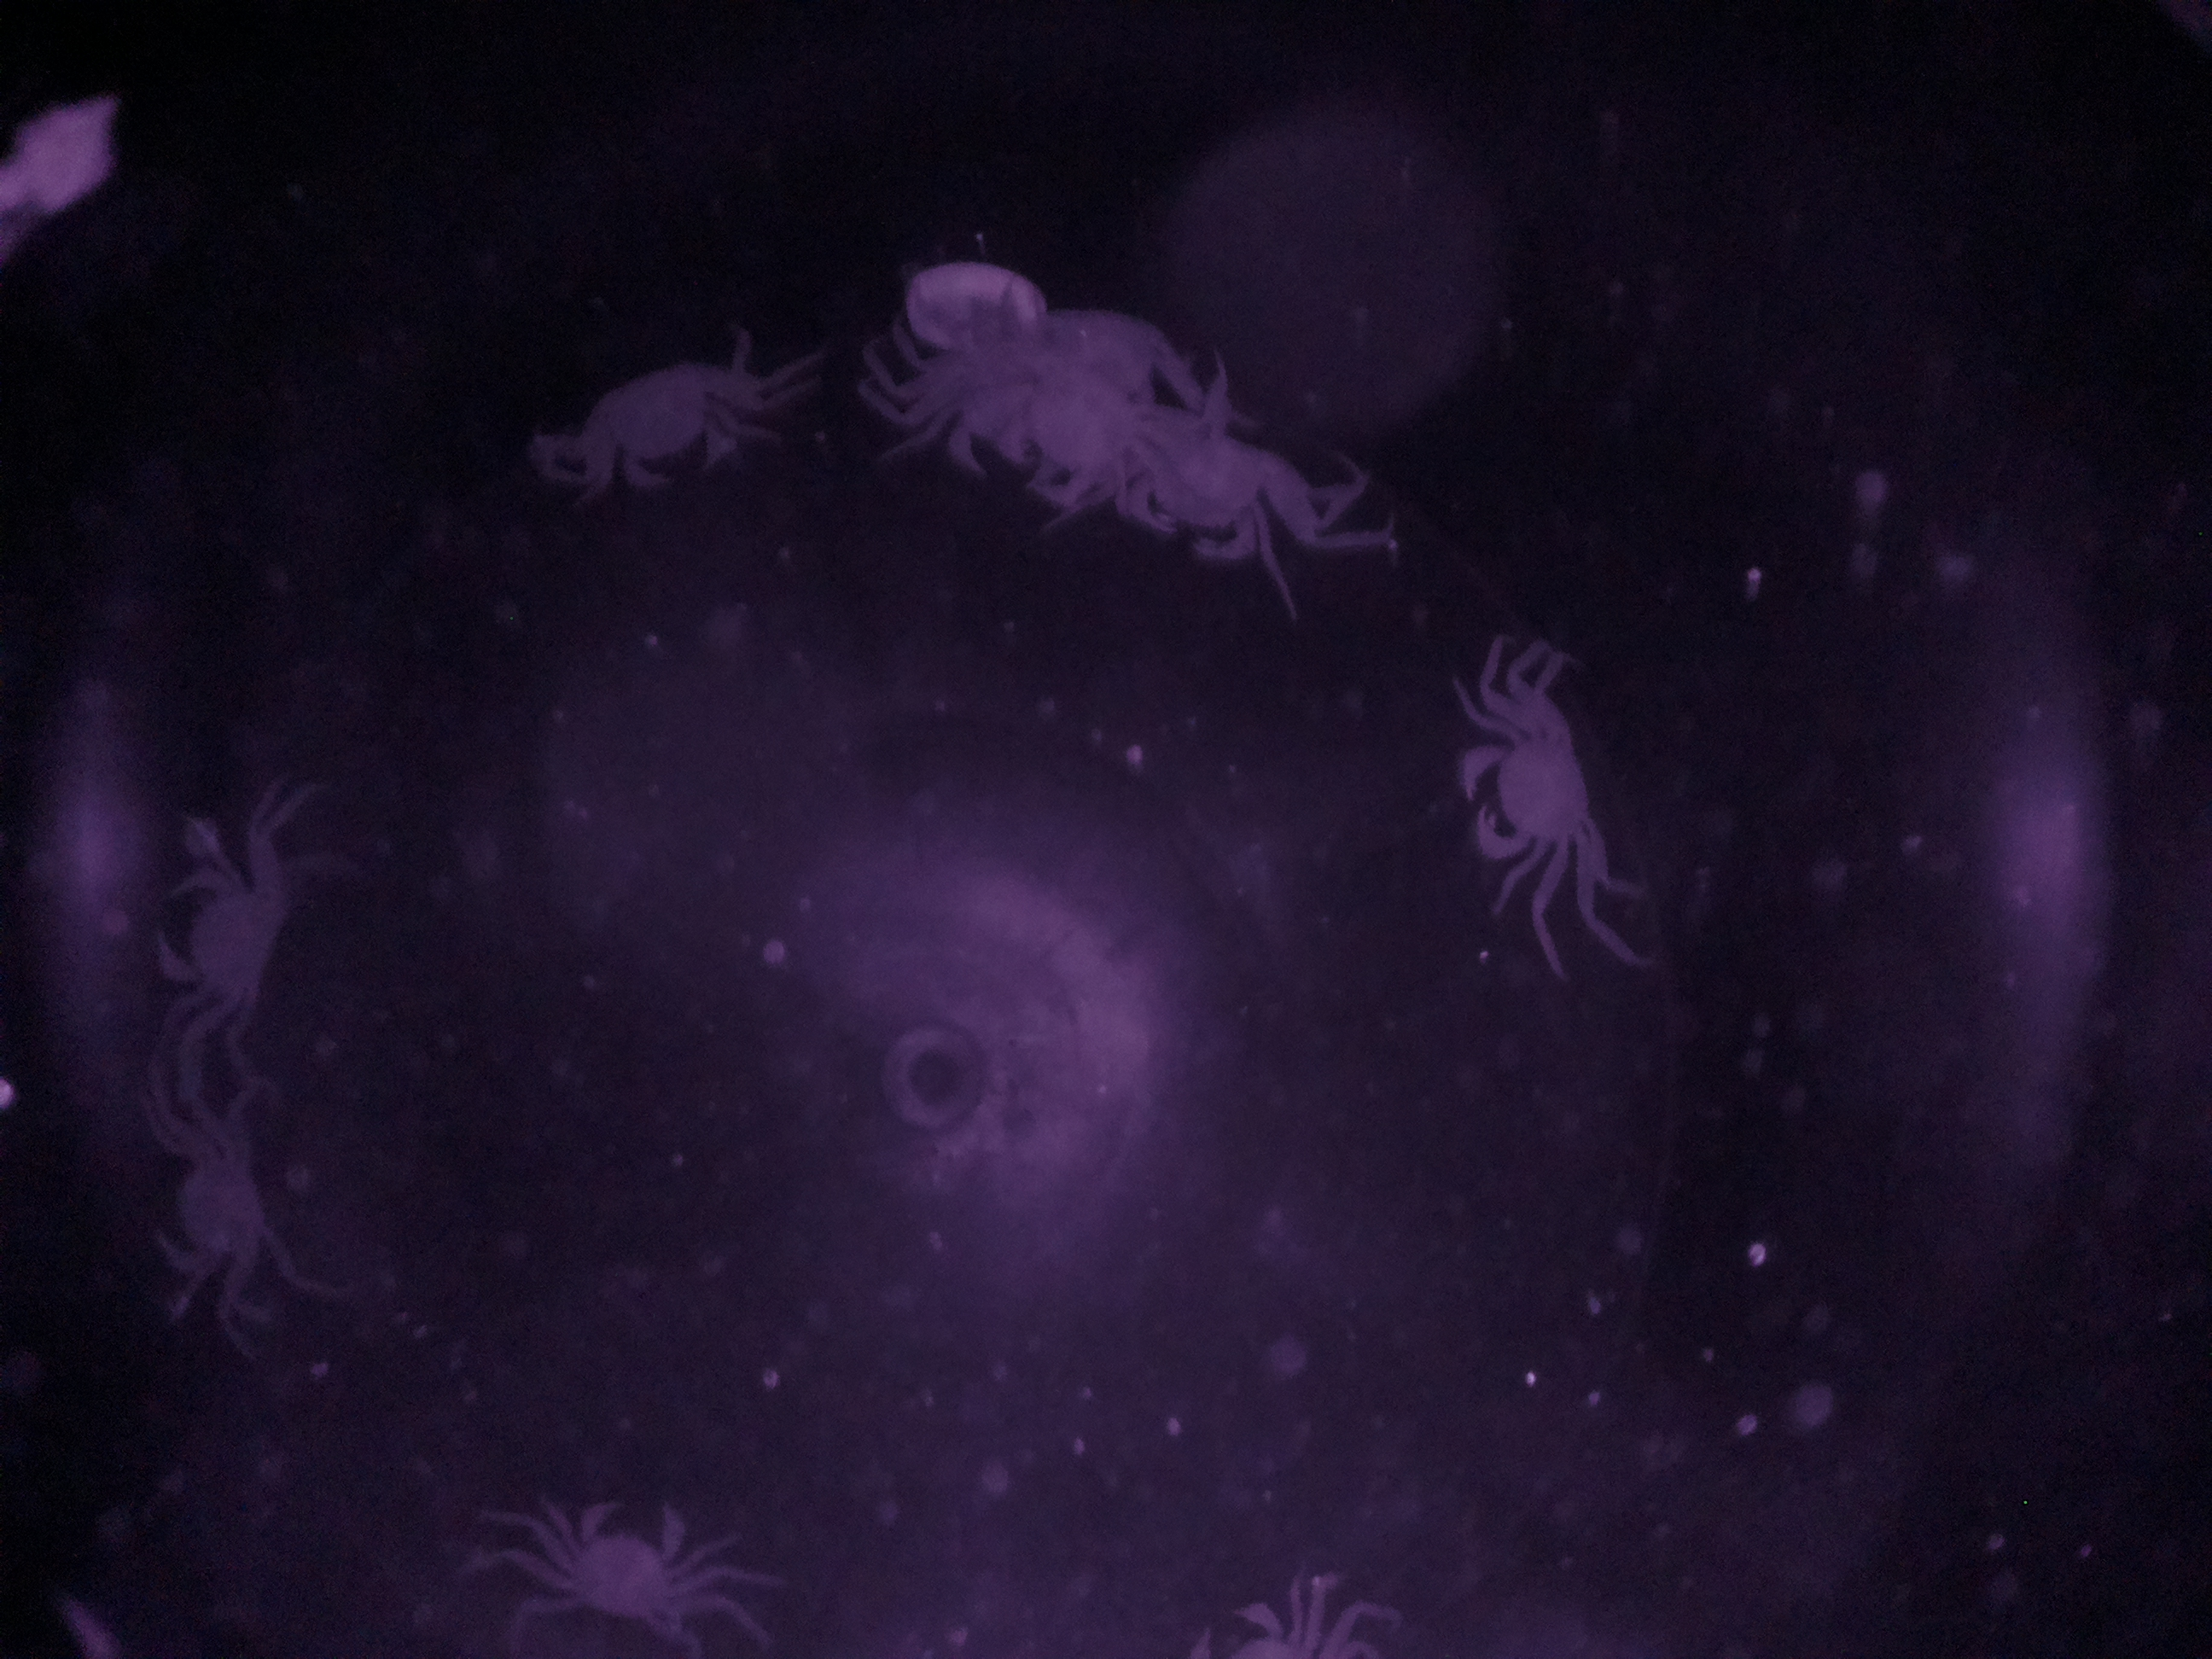Crab: (1439, 678, 1632, 906), (143, 823, 322, 1056)
